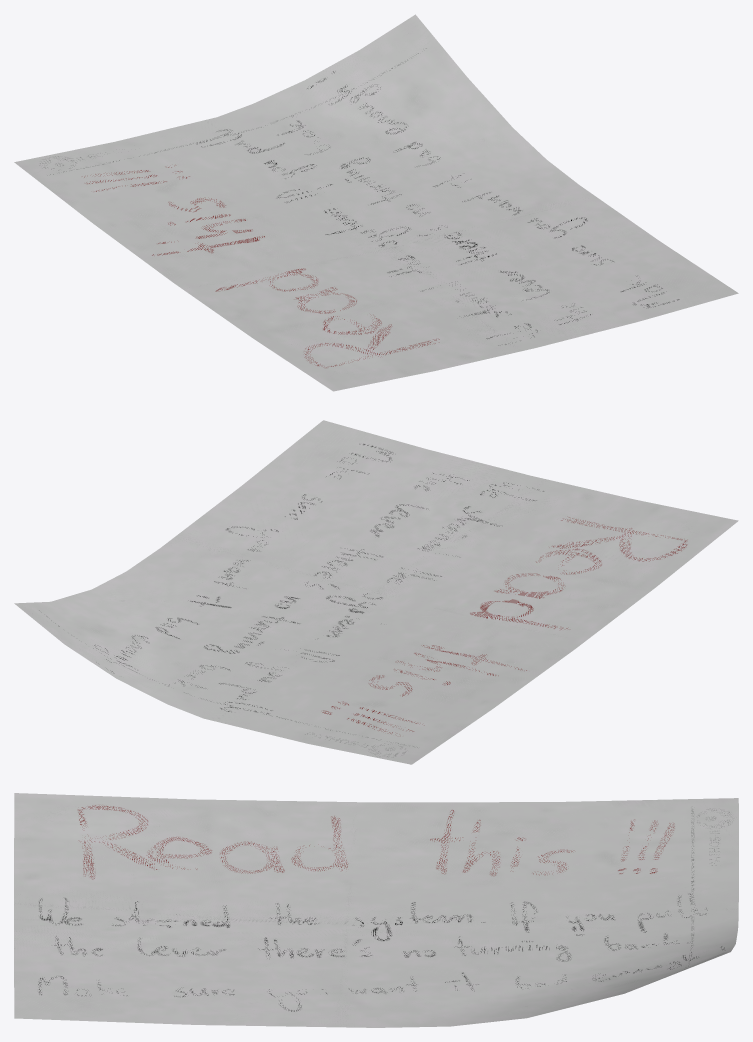
The model's file is notes_upsilon_reactor.dae.
3 renders of one model, top to bottom at view 1: azimuth 30°, elevation 25°; view 2: azimuth 150°, elevation 25°; view 3: azimuth 270°, elevation 25°, orthographic. The views are drawn at different scales.
Parts seen in each view (by area): view 1: 02; view 2: 02; view 3: 02.
Boxes of the visible parts, x1,y1,x2,y2 form: 02: (14,14,738,391); 02: (14,420,738,764); 02: (14,793,738,1027).
Size of the model in its own units: 0.3849 by 0.0598 by 0.5251.
